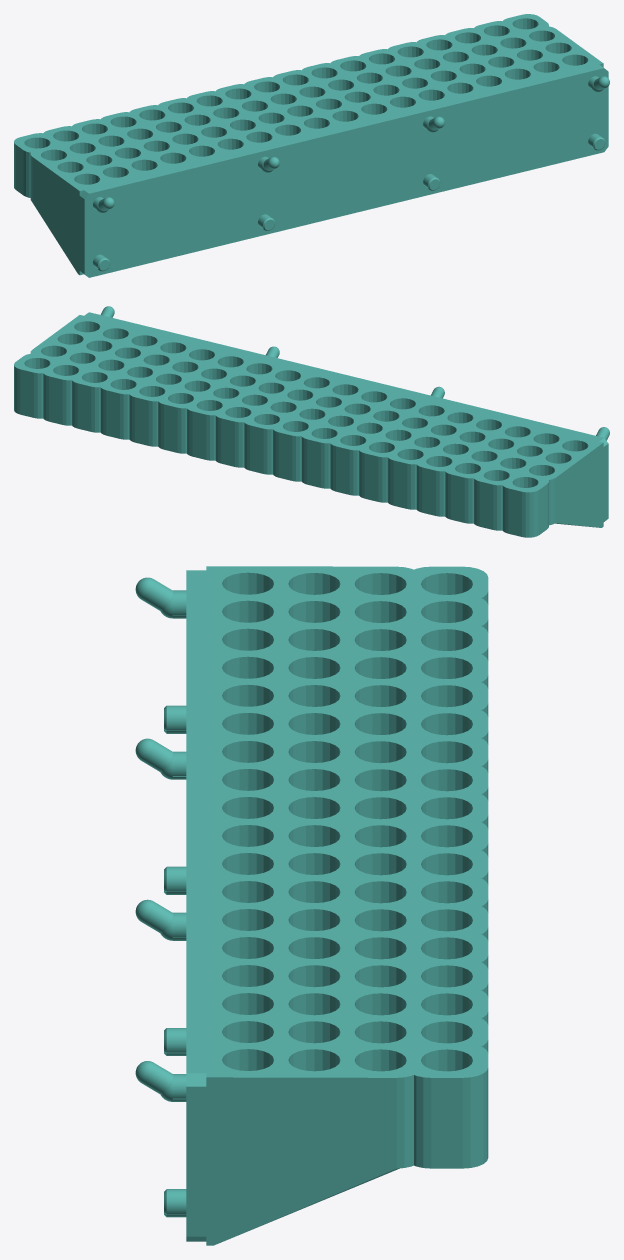
3 views of the same model, one above another, from view 1: azimuth 30°, elevation 25°; view 2: azimuth 150°, elevation 25°; view 3: azimuth 270°, elevation 25° (orthographic). The views are drawn at different scales.
Parts seen in each view (by area): view 1: Actual holder mesh; view 2: Actual holder mesh; view 3: Actual holder mesh.
Boxes of the visible parts, bbox=[...] form: Actual holder mesh: bbox=[14, 14, 609, 277]; Actual holder mesh: bbox=[14, 306, 609, 537]; Actual holder mesh: bbox=[135, 566, 488, 1245].
Size of the model in its own units: 0.2418 by 0.0374 by 0.0705.
